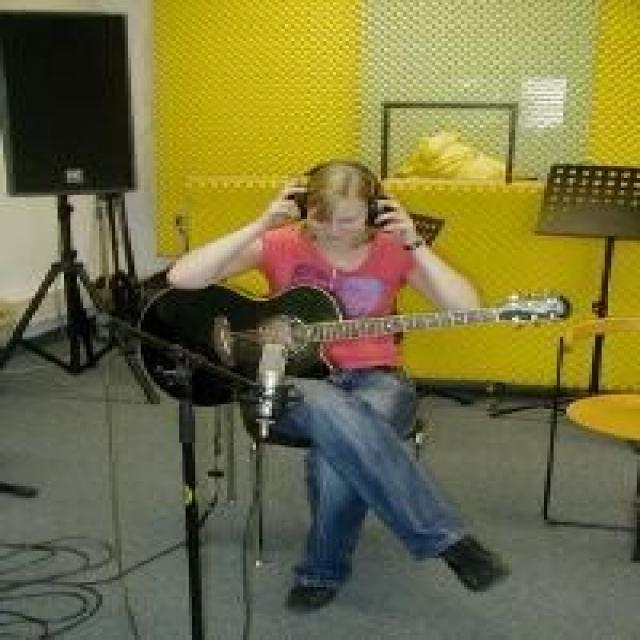guitar: (134, 273, 574, 406)
